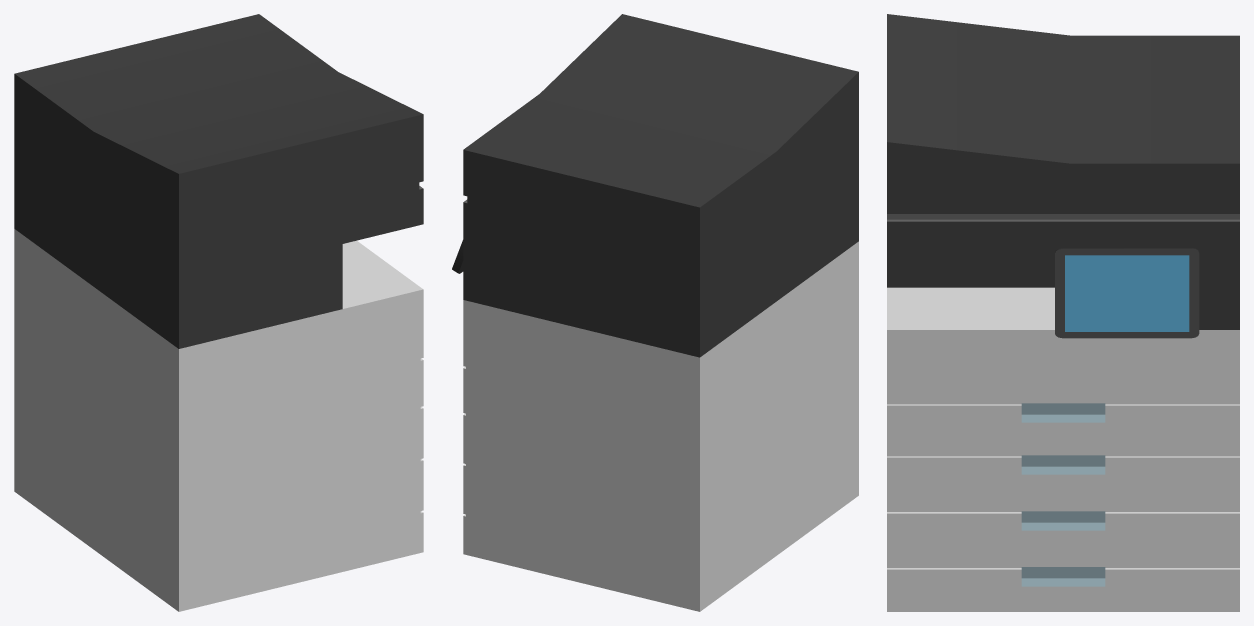
File: multifunctional machine.fbx
The picture shows the model from 3 angles, left to right: view 1: azimuth 30°, elevation 25°; view 2: azimuth 150°, elevation 25°; view 3: azimuth 270°, elevation 25°; orthographic projection. The views are drawn at different scales.
Parts seen in each view (by area): view 1: Cube.001; view 2: Cube.001; view 3: Cube.001.
Part boxes in pixels (bbox=[...]): Cube.001: bbox=[14, 14, 423, 611]; Cube.001: bbox=[452, 14, 858, 611]; Cube.001: bbox=[887, 14, 1239, 611].
Bounding box in the file's own units: 441 × 668 × 455.
1 material, 1 textured.
